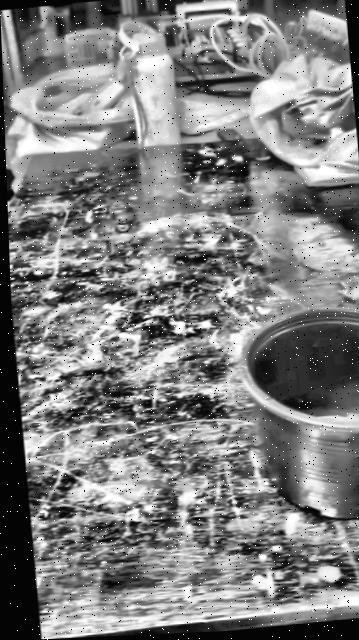pot: (232, 302, 359, 527)
